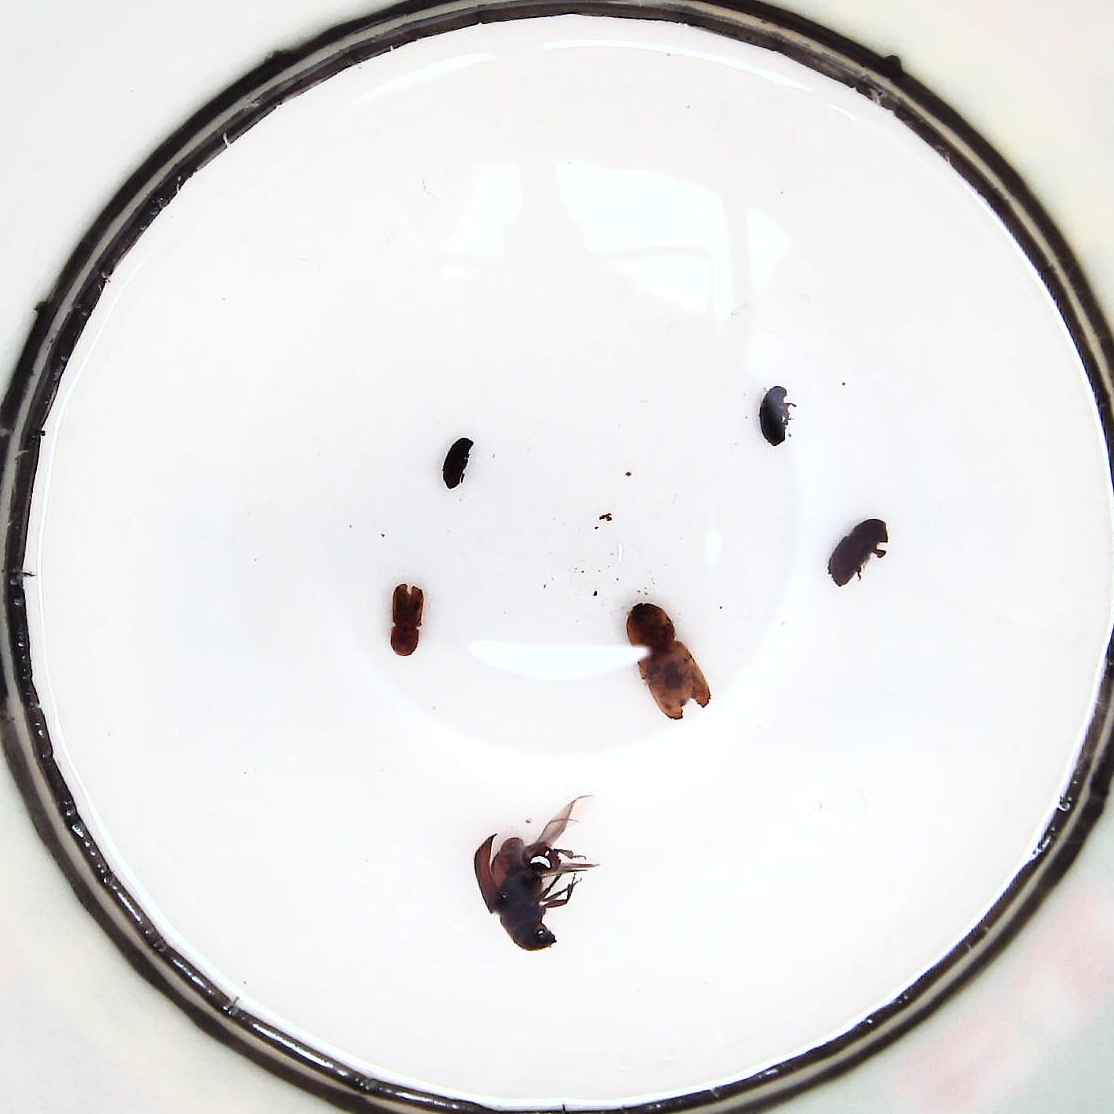Boerner: (627, 603, 711, 720), (828, 520, 888, 587)
Leconte: (474, 834, 583, 951)
acuminatus: (443, 438, 472, 489)
armandi: (390, 583, 422, 657)
coleoptera: (759, 386, 788, 446)
